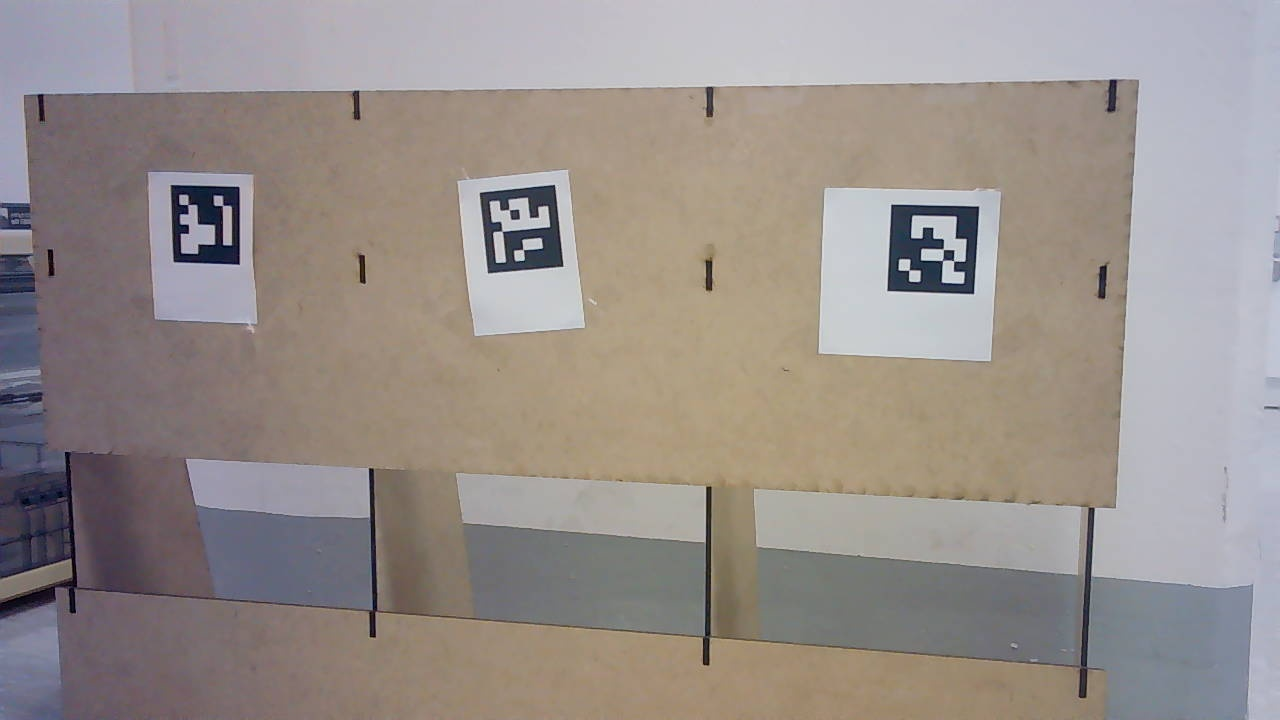aruco: (807, 182, 1007, 366), (451, 168, 594, 339), (143, 167, 261, 329)
